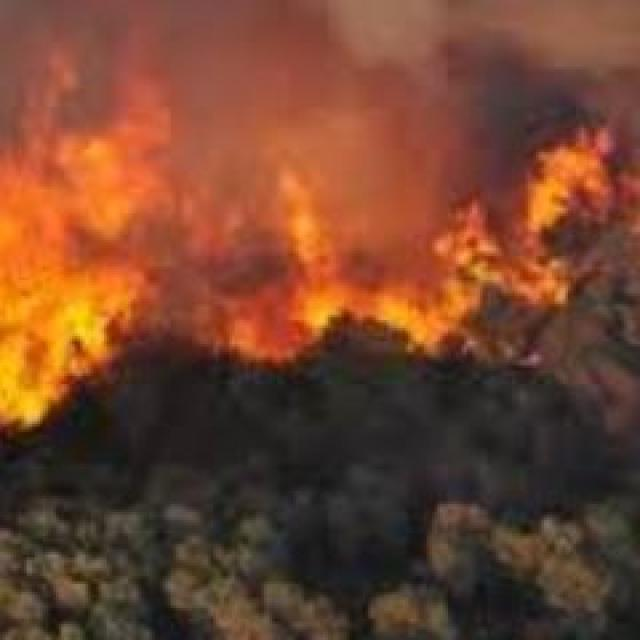Fire: (0, 95, 148, 416), (462, 124, 616, 340), (208, 254, 482, 372), (276, 183, 339, 286)
Smoke: (188, 9, 518, 200), (0, 3, 198, 95), (468, 2, 640, 99)
